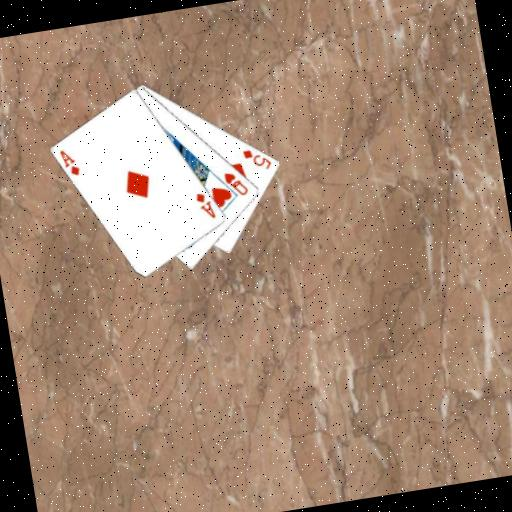5D: (239, 143, 274, 175)
AD: (56, 144, 82, 179), (192, 188, 217, 223)
QH: (221, 167, 251, 200)
